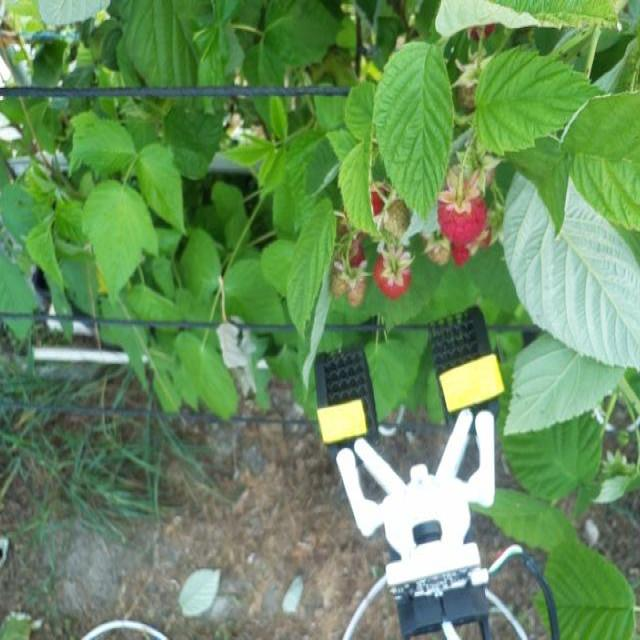Riped berries: (436, 180, 485, 238), (377, 248, 415, 300), (447, 232, 485, 269), (370, 179, 393, 218), (344, 237, 368, 268)
